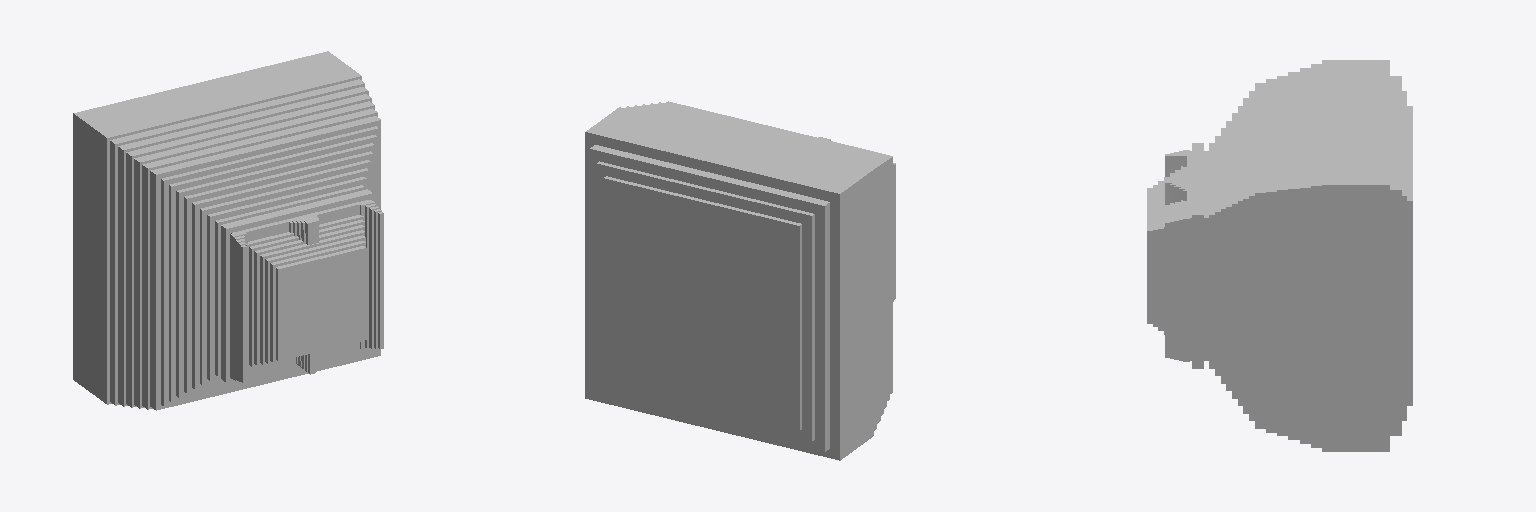
The model's file is boss2.obj.
The picture shows the model from 3 angles: view 1: azimuth 30°, elevation 25°; view 2: azimuth 150°, elevation 25°; view 3: azimuth 270°, elevation 25°; orthographic projection.
Visible parts, largest first — view 1: obj1; view 2: obj1; view 3: obj1.
Boxes of the visible parts, x1=… form: obj1: x1=73, y1=51, x2=383, y2=410; obj1: x1=585, y1=101, x2=895, y2=460; obj1: x1=1147, y1=60, x2=1412, y2=451.
Bounding box in the file's own units: 13 × 13 × 11.75.